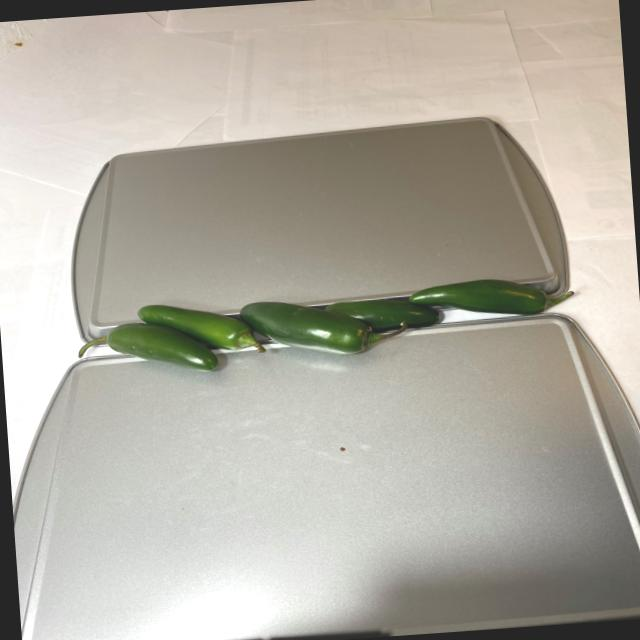chilli: (75, 271, 585, 376)
